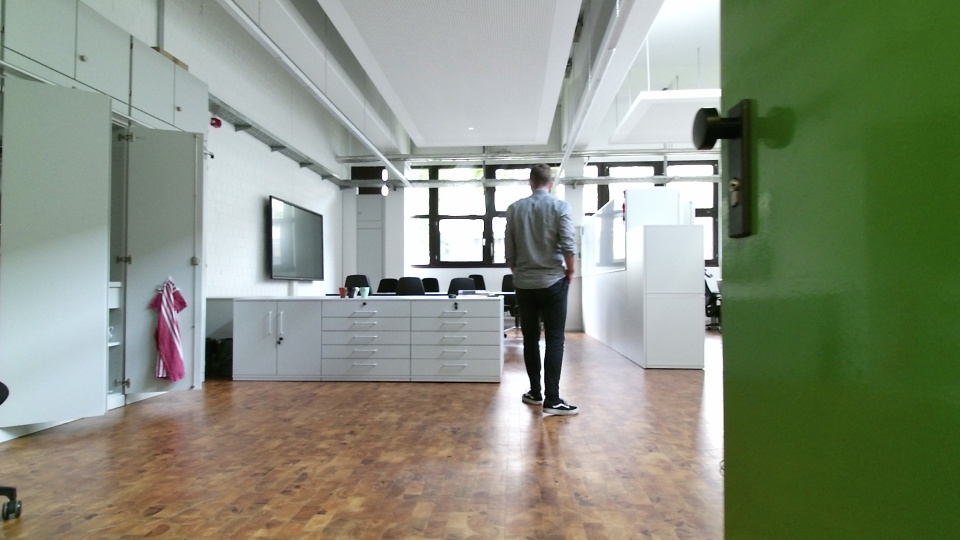Person: (502, 158, 585, 419)
